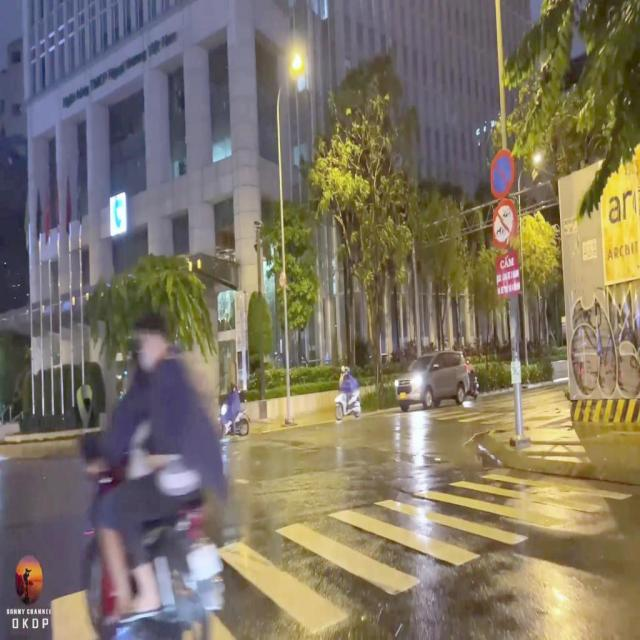cam_cac_loai_xe_3_banh: (493, 199, 517, 251)
cam_do_xe: (491, 148, 516, 198)
